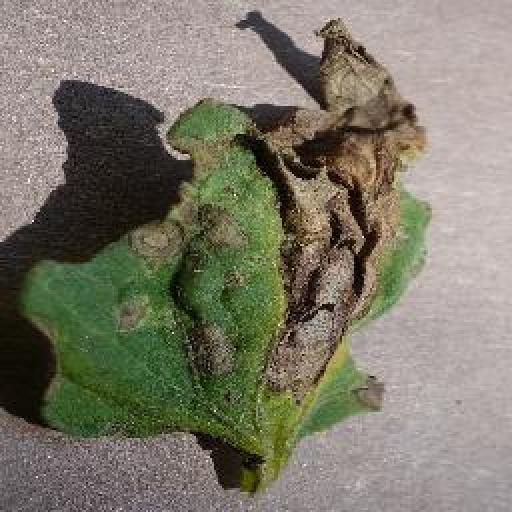Early Blight: (15, 20, 435, 491)
